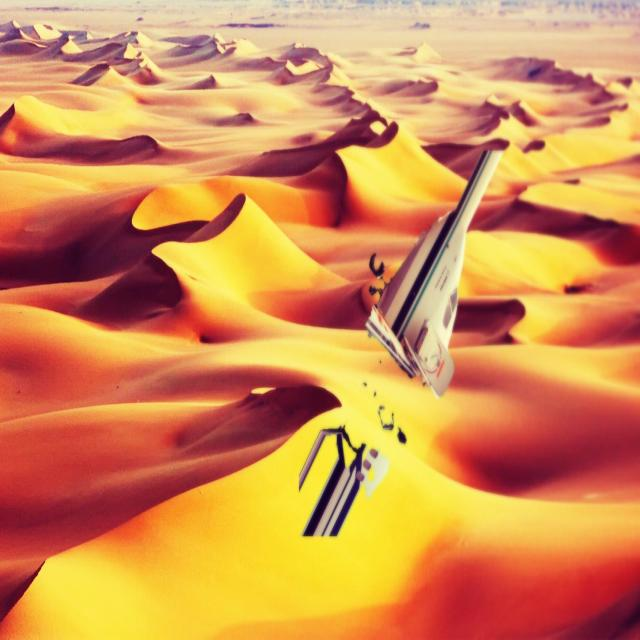airplane: (296, 148, 504, 538)
